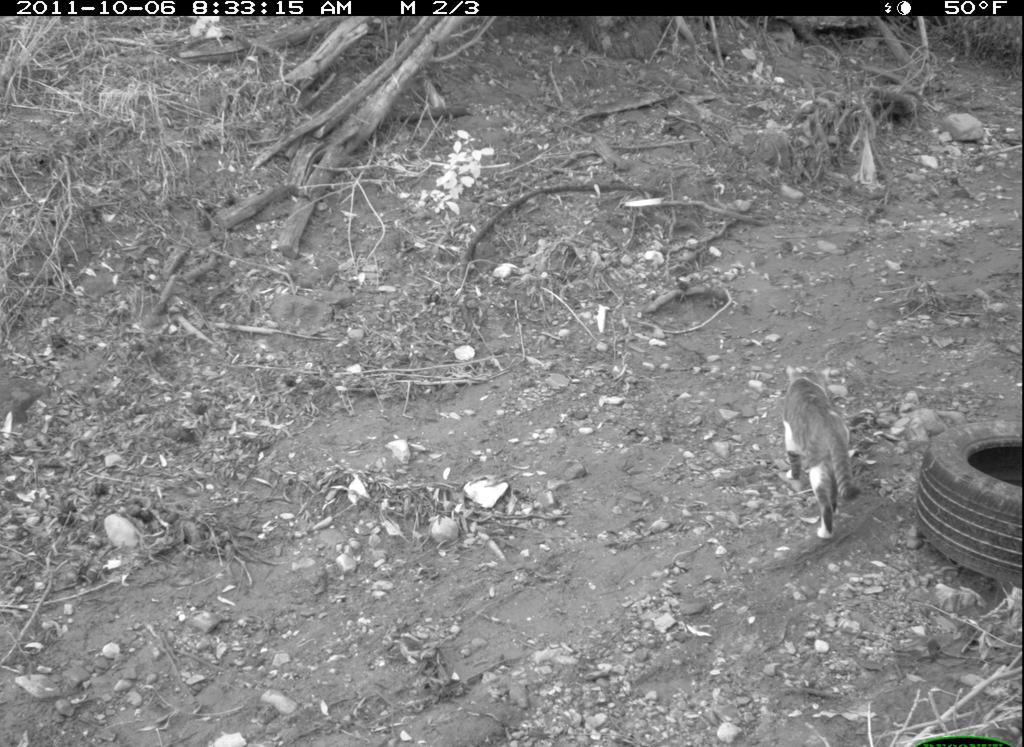cat: (765, 351, 867, 548)
